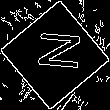N_W: (28, 33, 82, 77)
